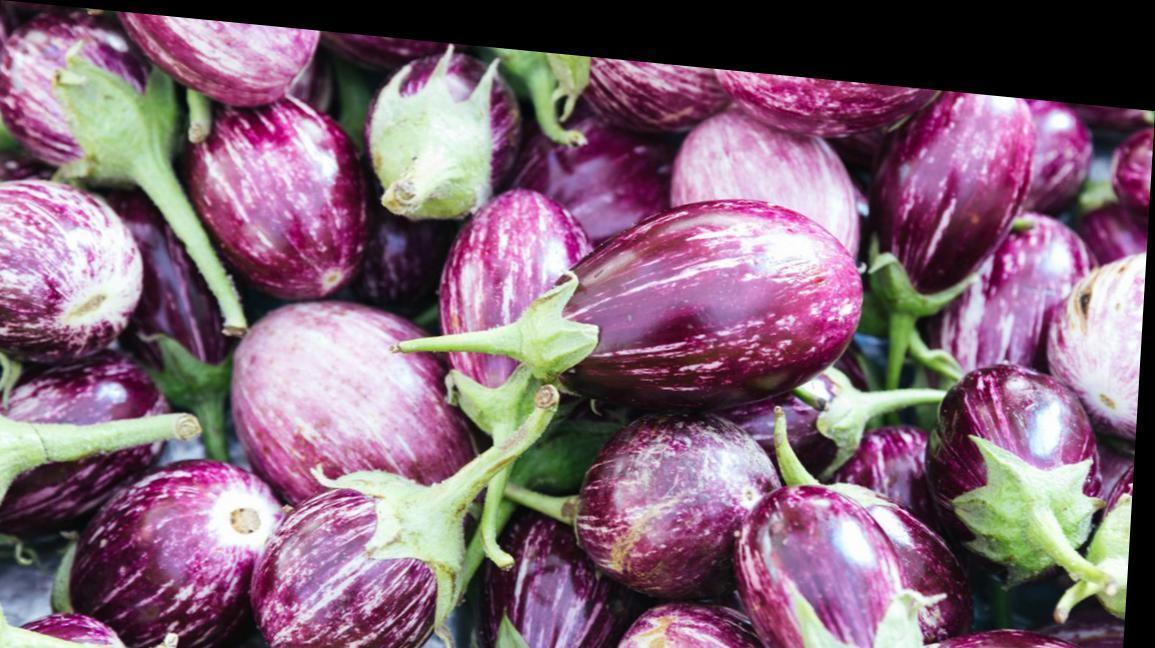eggplant: (0, 7, 1144, 647), (0, 271, 419, 647), (426, 172, 876, 442), (918, 292, 1124, 545), (718, 467, 935, 647)
